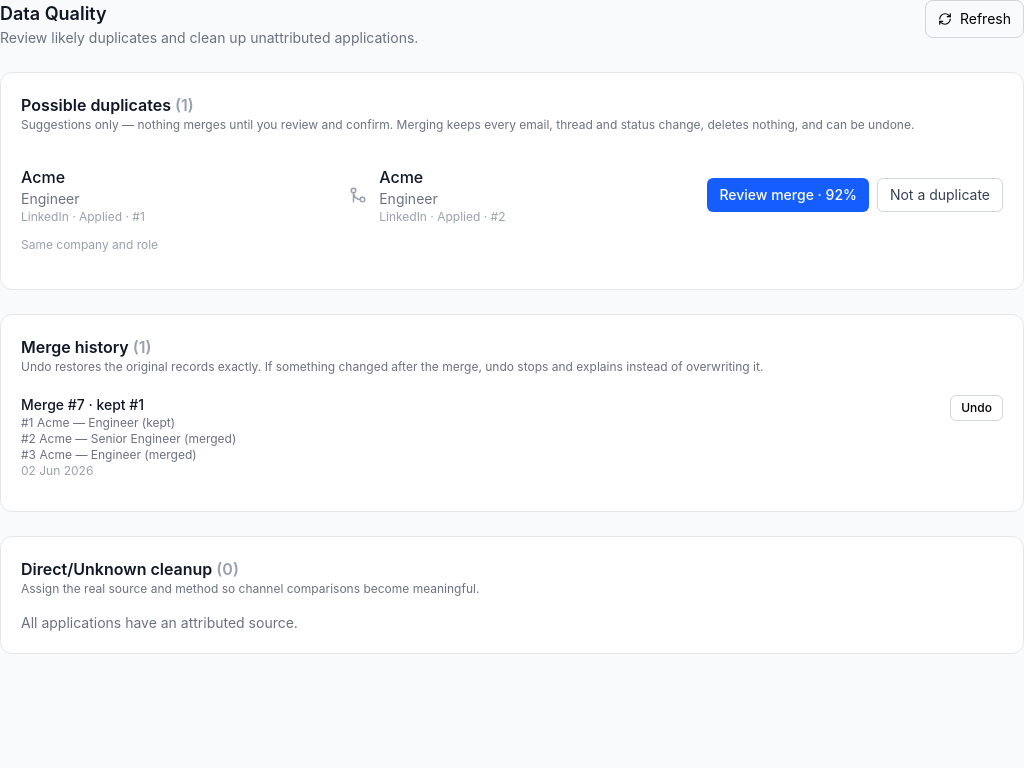
Scenario: DataQualityPanel merge review › opens a merge review for a suggestion rather than merging directly
This screenshot has width=1024, height=768.
Step 1. Click the button "Review merge · 92%" → coordinates (788, 195), box x1=707 y1=178 x2=869 y2=212
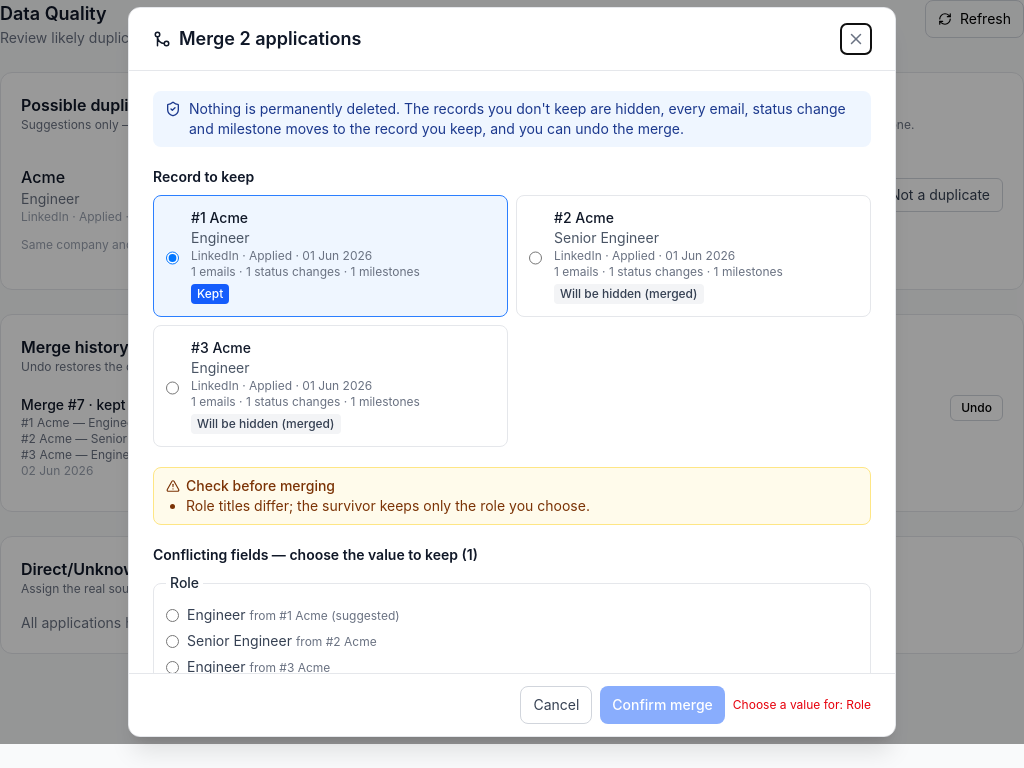
Result: the dialog is shown
